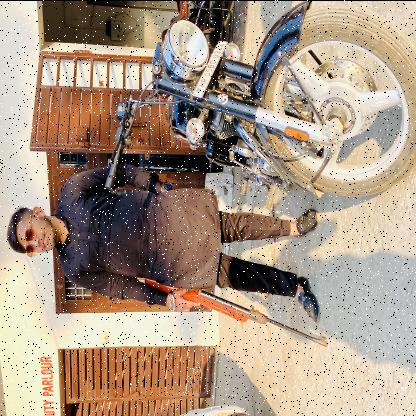rifle: (144, 275, 330, 348)
